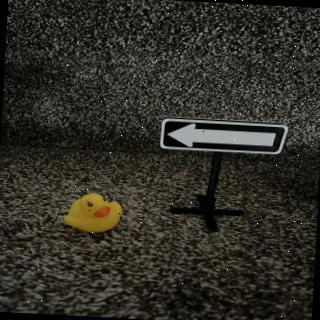duck_regular: (64, 193, 125, 236)
sign_oneway_left: (160, 118, 290, 162)
